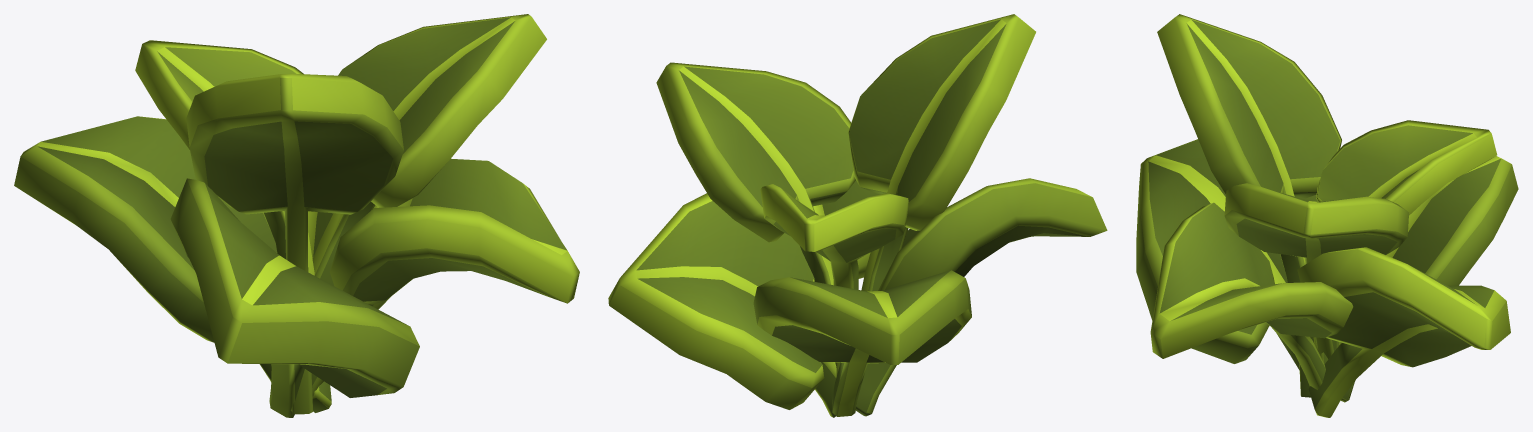
The model's file is philodendron_green_small_LOD_group.fbx.
The picture shows the model from 3 angles, left to right: view 1: azimuth 30°, elevation 25°; view 2: azimuth 150°, elevation 25°; view 3: azimuth 270°, elevation 25°; orthographic projection. The views are drawn at different scales.
Parts seen in each view (by area): view 1: philodendron_green_small_LOD0; view 2: philodendron_green_small_LOD0; view 3: philodendron_green_small_LOD0.
Part boxes in pixels (bbox=[...]): philodendron_green_small_LOD0: bbox=[14, 14, 579, 417]; philodendron_green_small_LOD0: bbox=[608, 14, 1107, 417]; philodendron_green_small_LOD0: bbox=[1136, 14, 1518, 417].
Size of what is drawn, in the model's own units: 232 by 224 by 220.
Materials: 1 (1 with a texture image).
